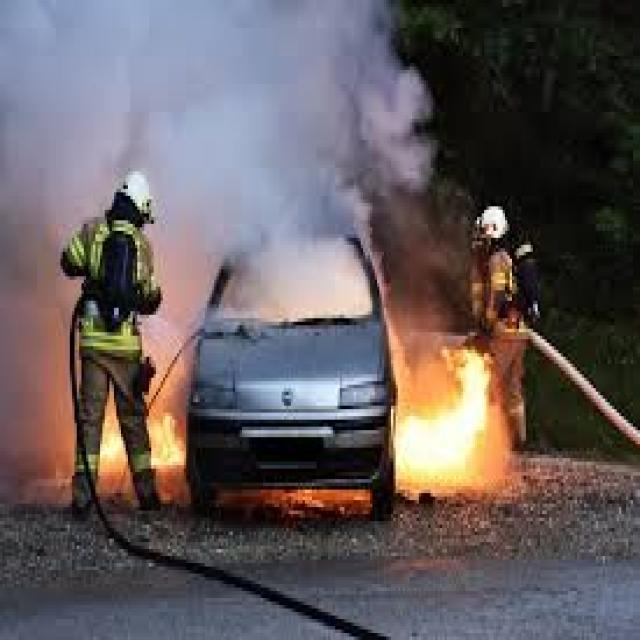Fire: (391, 328, 502, 493), (88, 354, 196, 490)
Smoke: (48, 15, 382, 186), (231, 245, 350, 314)
